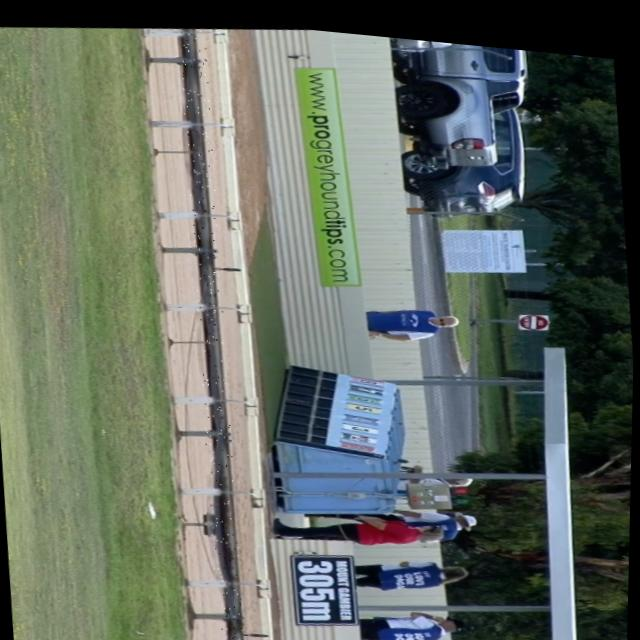rail: (177, 25, 245, 640)
